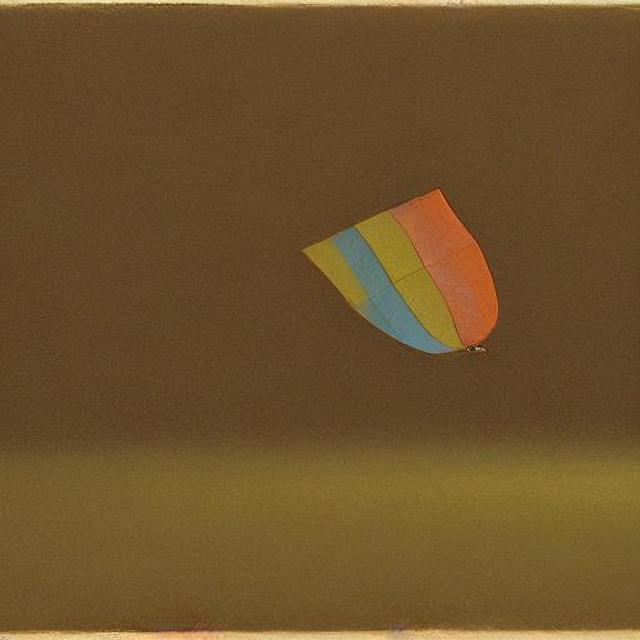floating object: (301, 187, 500, 356)
